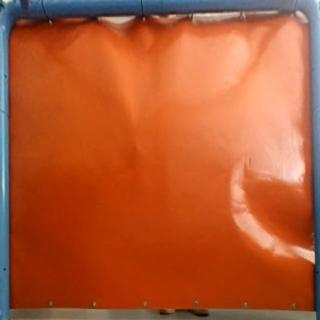Hit-hRxx: (127, 140, 145, 156)
